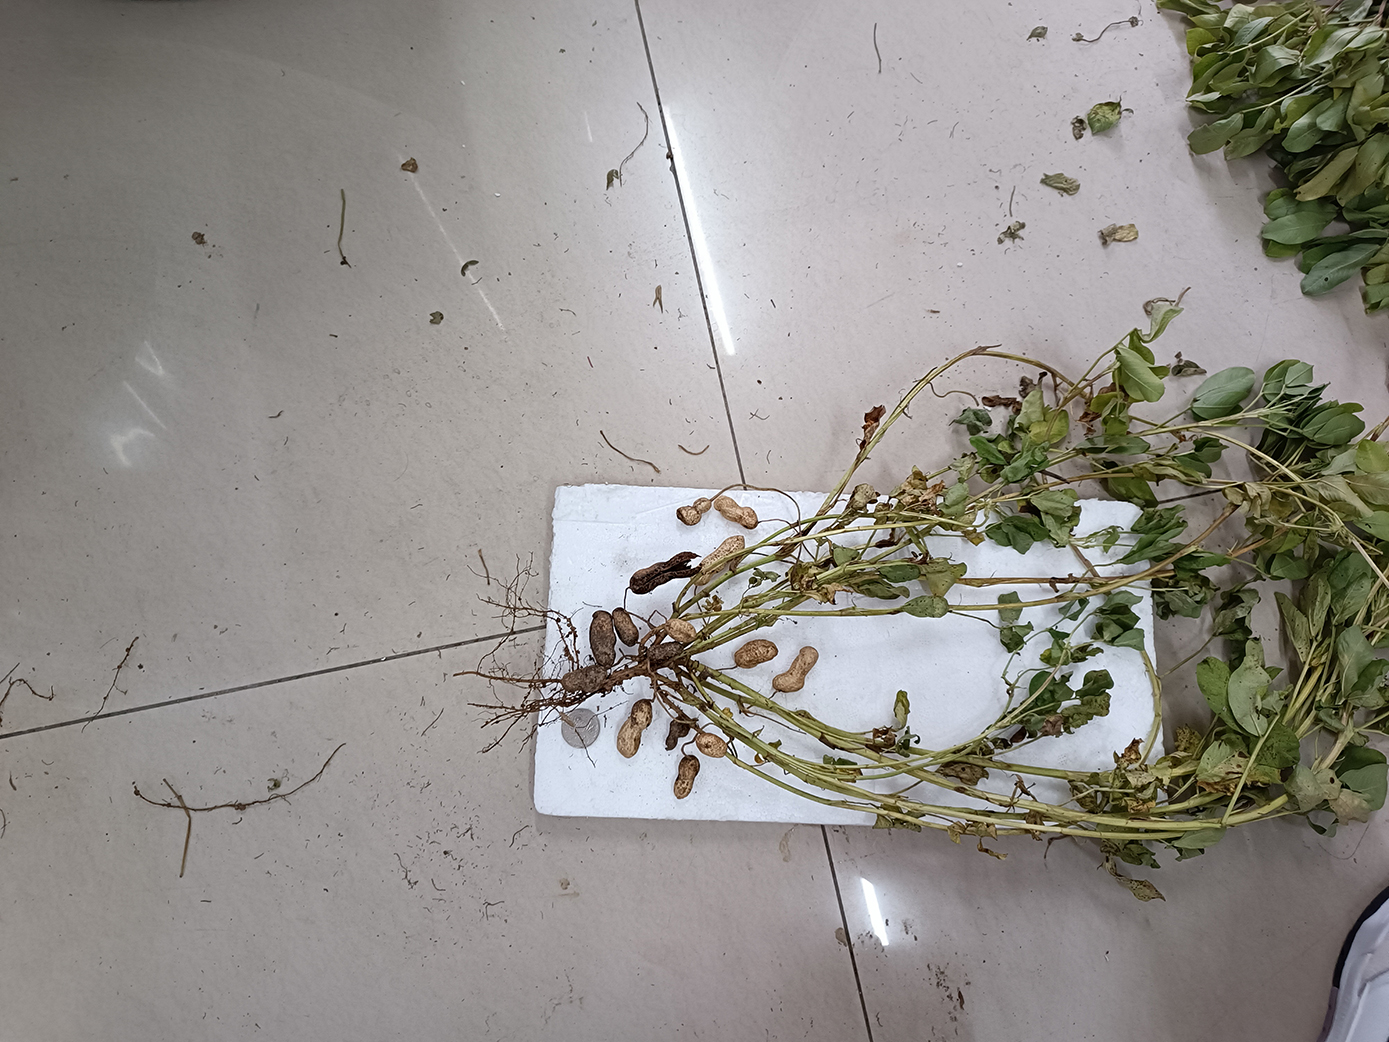h: (692, 535, 745, 586), (617, 698, 653, 757), (774, 646, 819, 692), (714, 495, 759, 530), (734, 639, 778, 669), (675, 498, 713, 524), (665, 615, 696, 642), (695, 733, 728, 759)
l: (629, 551, 701, 594), (588, 609, 616, 665), (560, 665, 609, 693), (673, 754, 701, 800), (612, 606, 639, 646), (665, 715, 691, 753), (647, 642, 683, 663)
